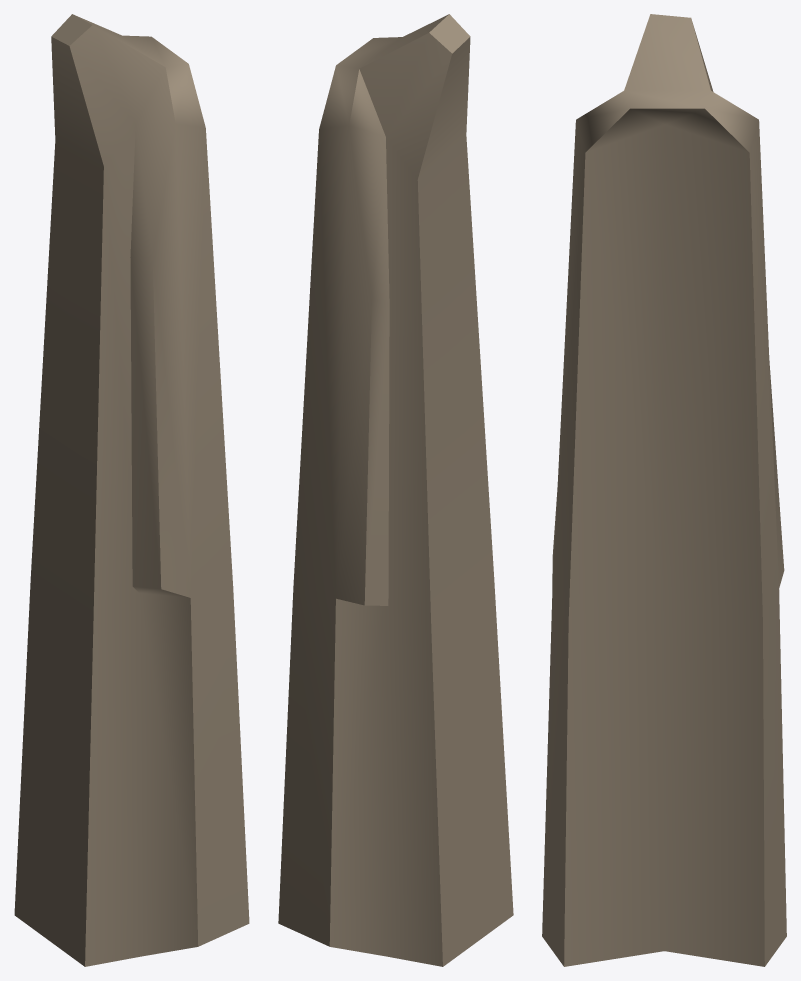
Rendered from SM_Prop_CoatRack_Clothes_01c.obj.
3 views of the same model, side by side, from view 1: azimuth 30°, elevation 25°; view 2: azimuth 150°, elevation 25°; view 3: azimuth 270°, elevation 25° (orthographic).
Visible parts, largest first — view 1: SM_Prop_CoatRack_Clothes_01c_Mat_SwatchOverlay_PolygonOffice_01_; view 2: SM_Prop_CoatRack_Clothes_01c_Mat_SwatchOverlay_PolygonOffice_01_; view 3: SM_Prop_CoatRack_Clothes_01c_Mat_SwatchOverlay_PolygonOffice_01_.
Boxes of the visible parts, x1,y1,x2,y2 form: SM_Prop_CoatRack_Clothes_01c_Mat_SwatchOverlay_PolygonOffice_01_: [14, 14, 249, 966]; SM_Prop_CoatRack_Clothes_01c_Mat_SwatchOverlay_PolygonOffice_01_: [278, 14, 513, 966]; SM_Prop_CoatRack_Clothes_01c_Mat_SwatchOverlay_PolygonOffice_01_: [542, 14, 786, 966].
Size of the model in its own units: 0.1813 by 1.06 by 0.2561.
Materials: 1 (1 with a texture image).
